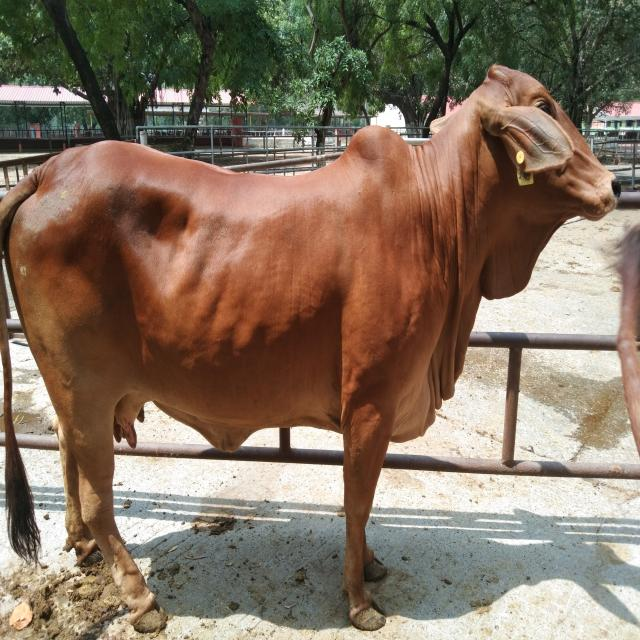Hoof: (348, 603, 386, 631), (363, 557, 387, 582)
